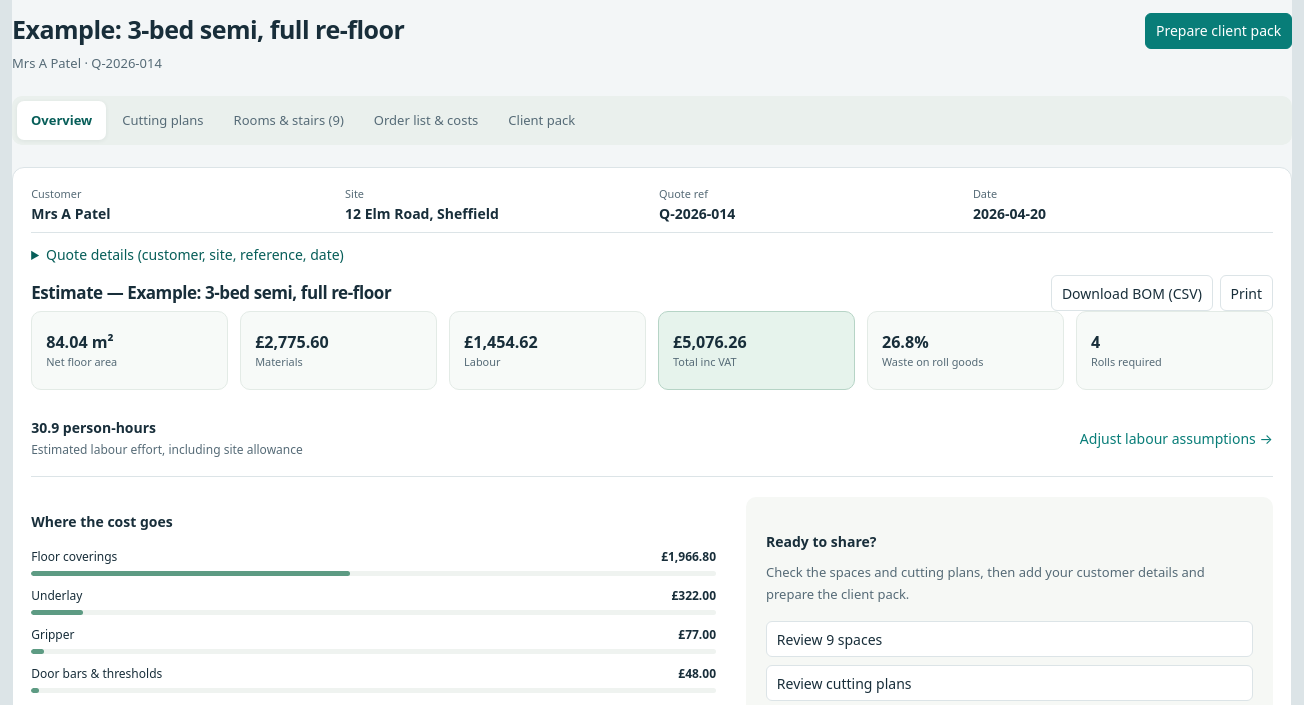
the printed quote › carries the customer, site and date once they are entered, and the notes under the BOM
Expected: the element with test id "quote-header" shows "Mrs A Patel", [31,204,110,223]
Expected: the element with test id "quote-header" shows "12 Elm Road, Sheffield", [345,204,499,223]
What coordinates should you click on to do the following:
click the button "Order list & costs"
I would click on:
 (426, 120)
Its box is [360,101,492,140].
(page scrolled)
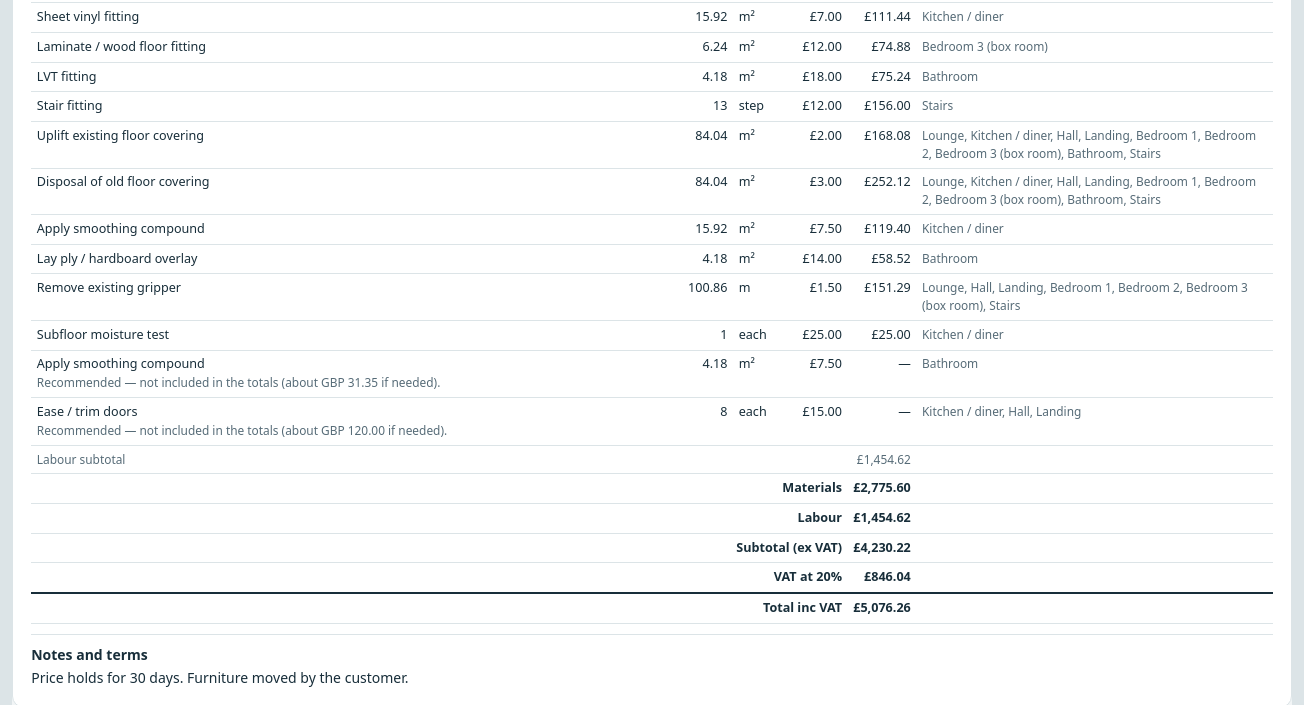
Expected: the heading "Notes and terms" is shown, [31,644,148,664]
